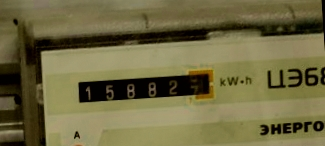1: (82, 84, 92, 100)
2: (166, 77, 177, 95)
5: (103, 83, 114, 99)
7: (188, 83, 198, 95)
8: (124, 82, 135, 99), (145, 80, 156, 97)
screen: (70, 64, 220, 112)
